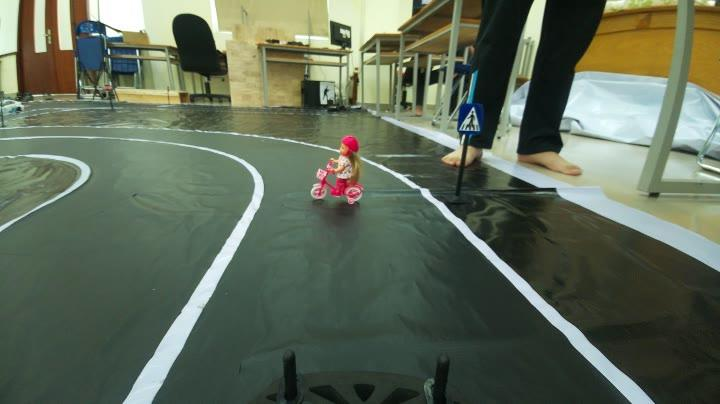crosswalk: (456, 100, 487, 134)
pedestrian: (308, 138, 376, 206)
